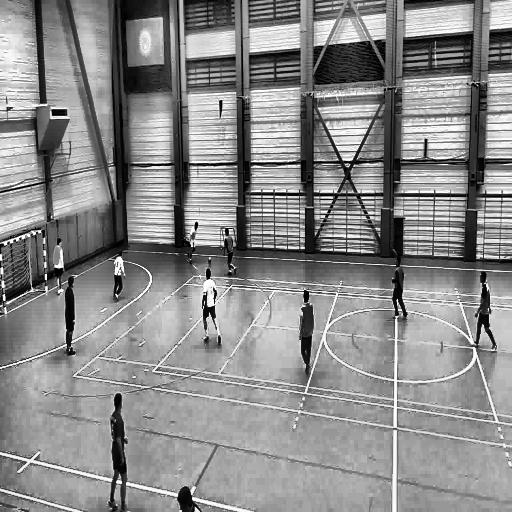ball: (206, 252, 214, 264)
player: (470, 270, 498, 354), (200, 267, 220, 349), (298, 289, 316, 380), (390, 252, 408, 324), (64, 274, 78, 357), (220, 227, 240, 278), (111, 249, 127, 305), (52, 235, 65, 296), (187, 220, 199, 270)
